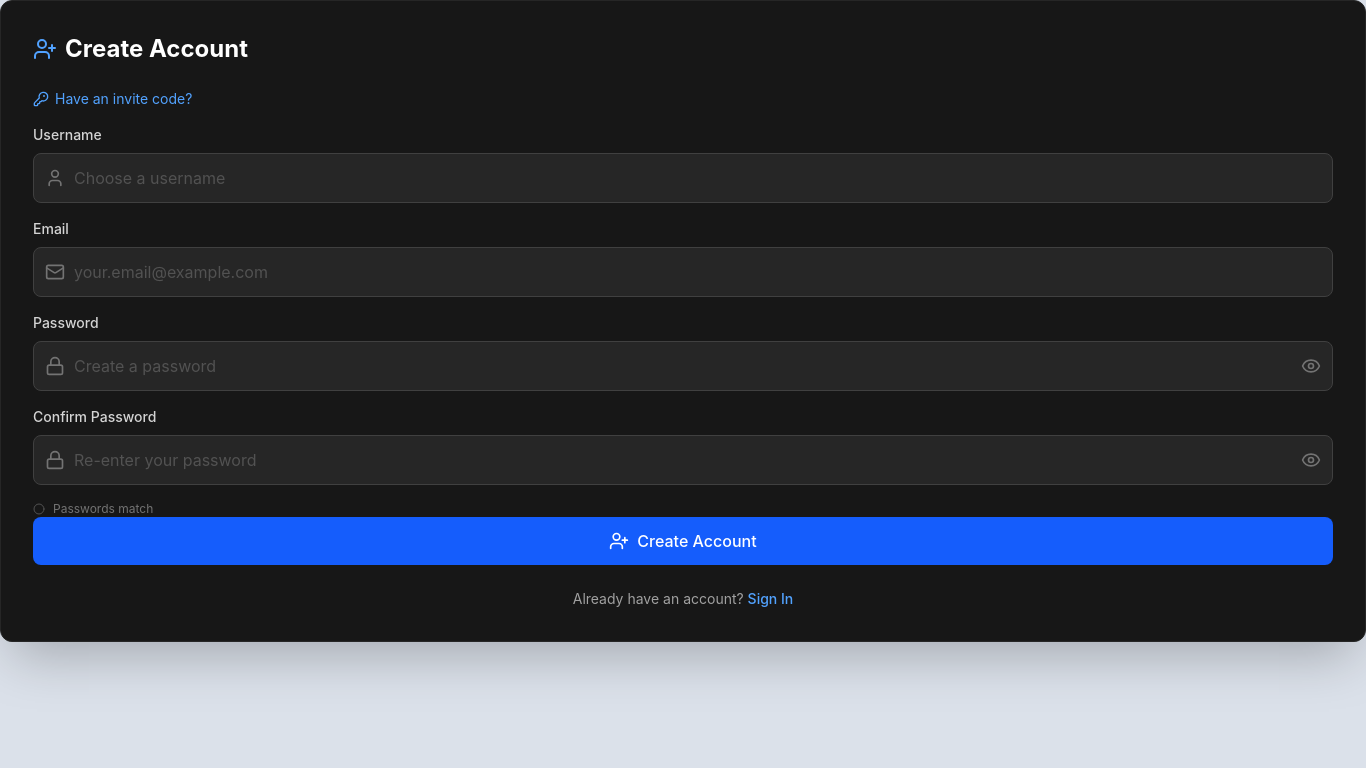
Scenario: error banners are announced › sign-up validation failure lands in a live region
In the field with placeholder "Choose a username": (683, 178) [33,153,1333,203], type "ab"
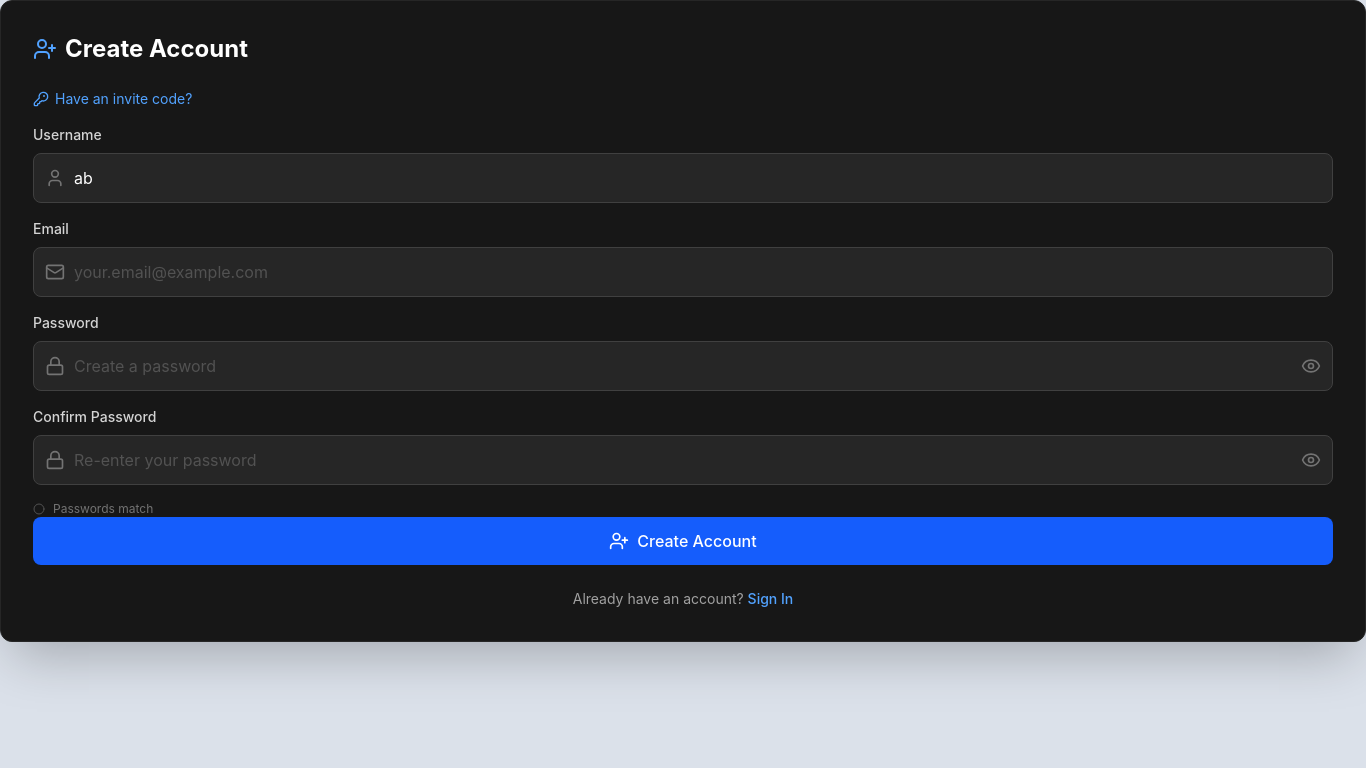
In the field with placeholder "your.email@example.com": (683, 272) [33,247,1333,297], type "a@b.com"
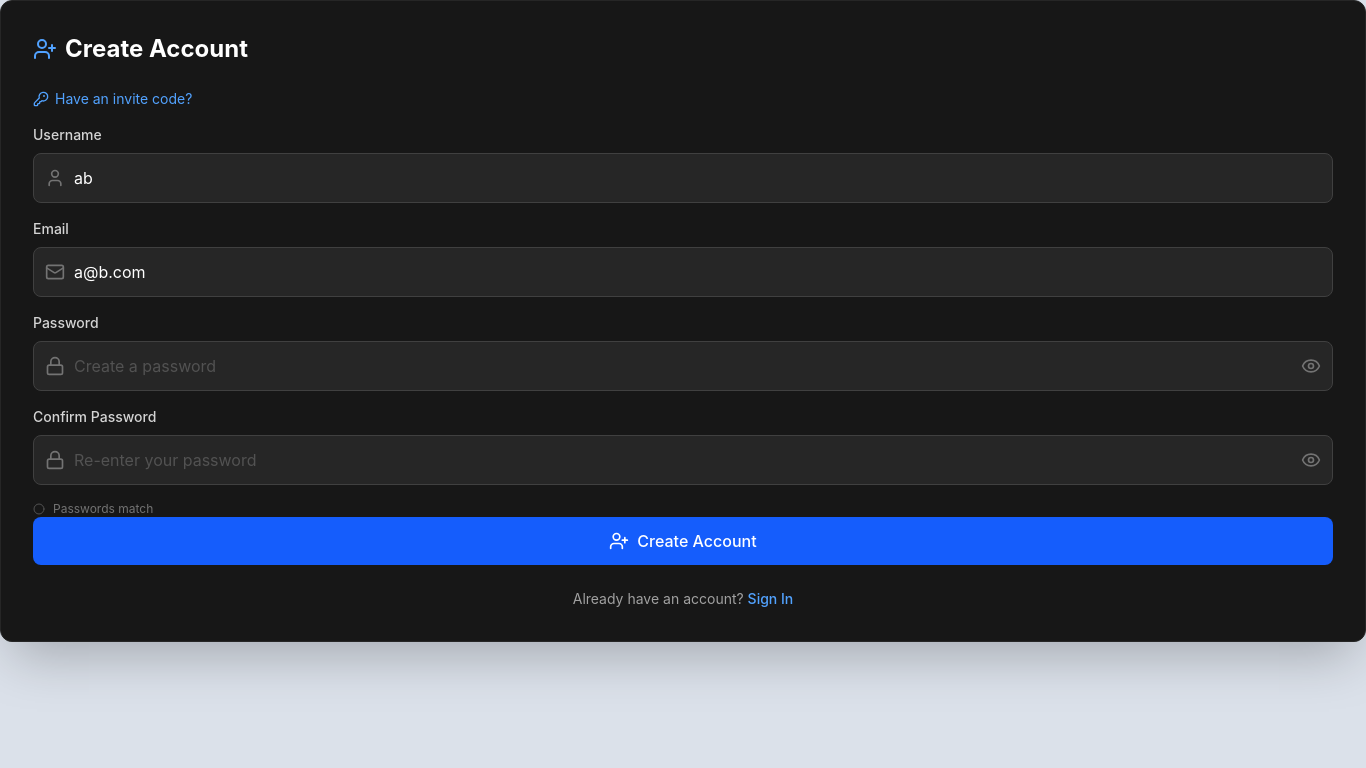
In the password field with placeholder "Create a password": (683, 366) [33,341,1333,391], type "Passw0rdX"
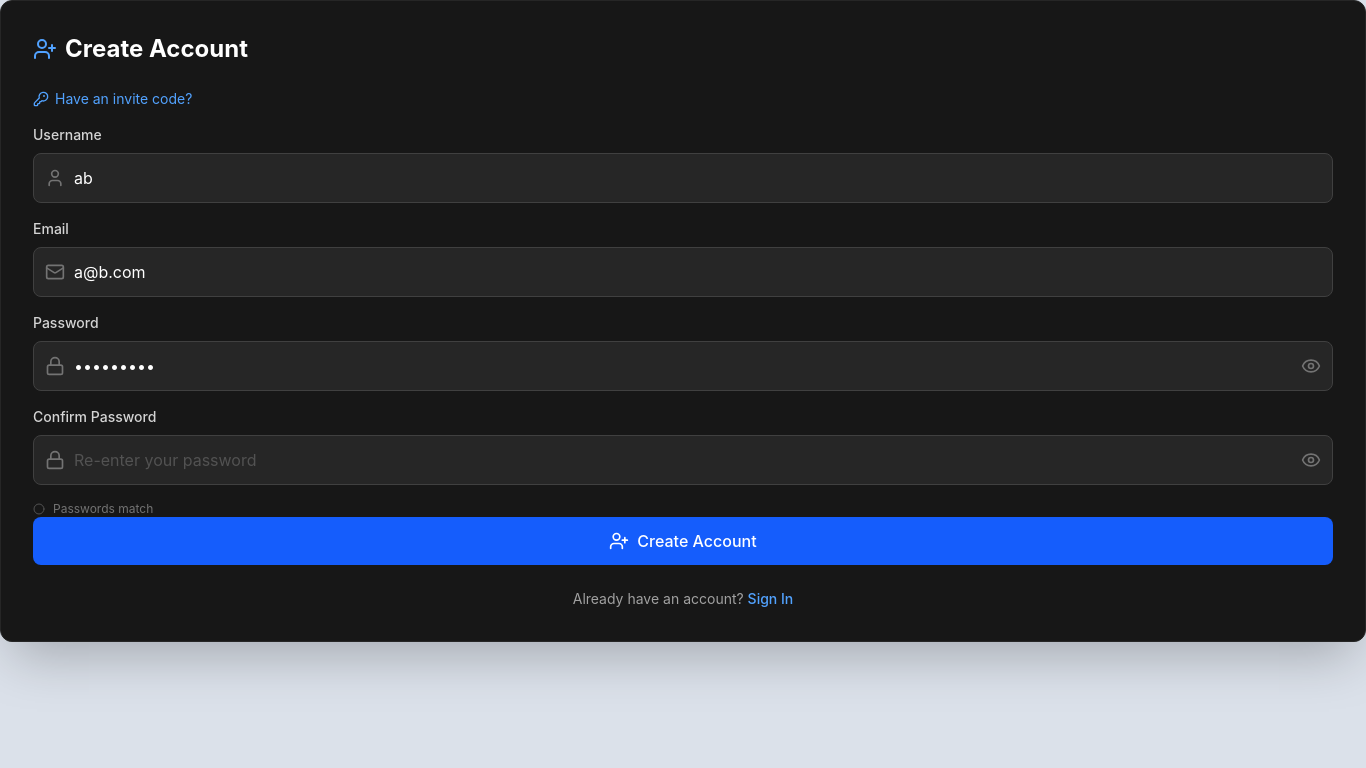
In the password field with placeholder "Re-enter your password": (683, 460) [33,435,1333,485], type "Passw0rdX"
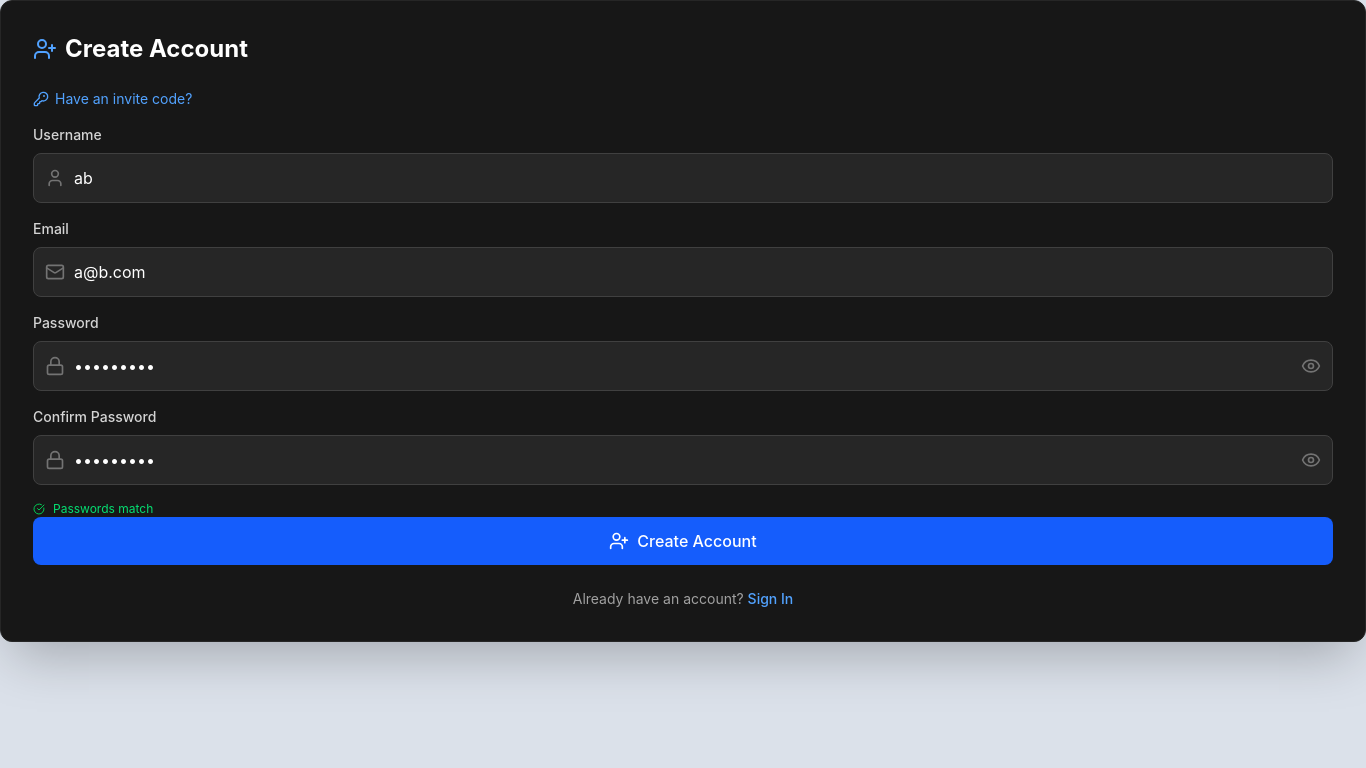
Click the button "Create Account": (683, 541) [33,517,1333,565]
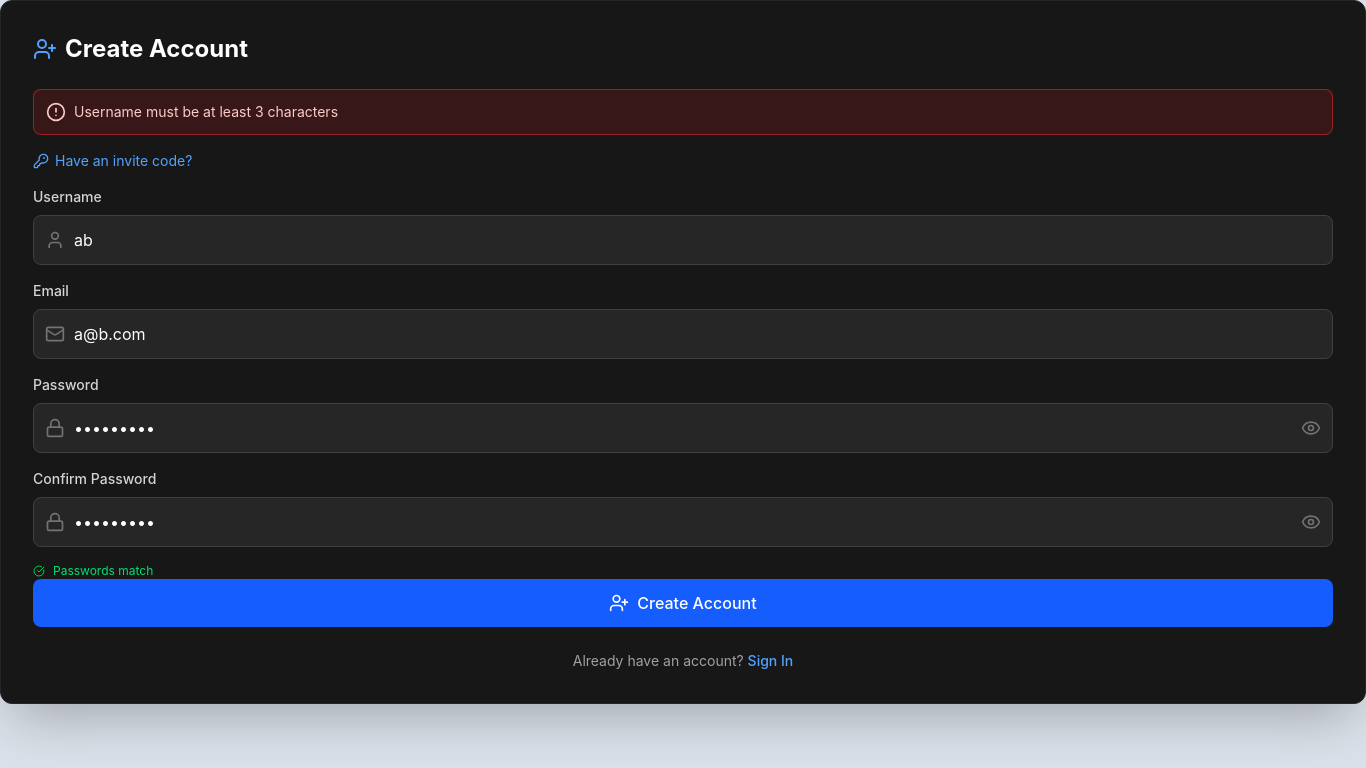
Now the message reads "Username must be at least 3 characters", box [74,103,338,120]
